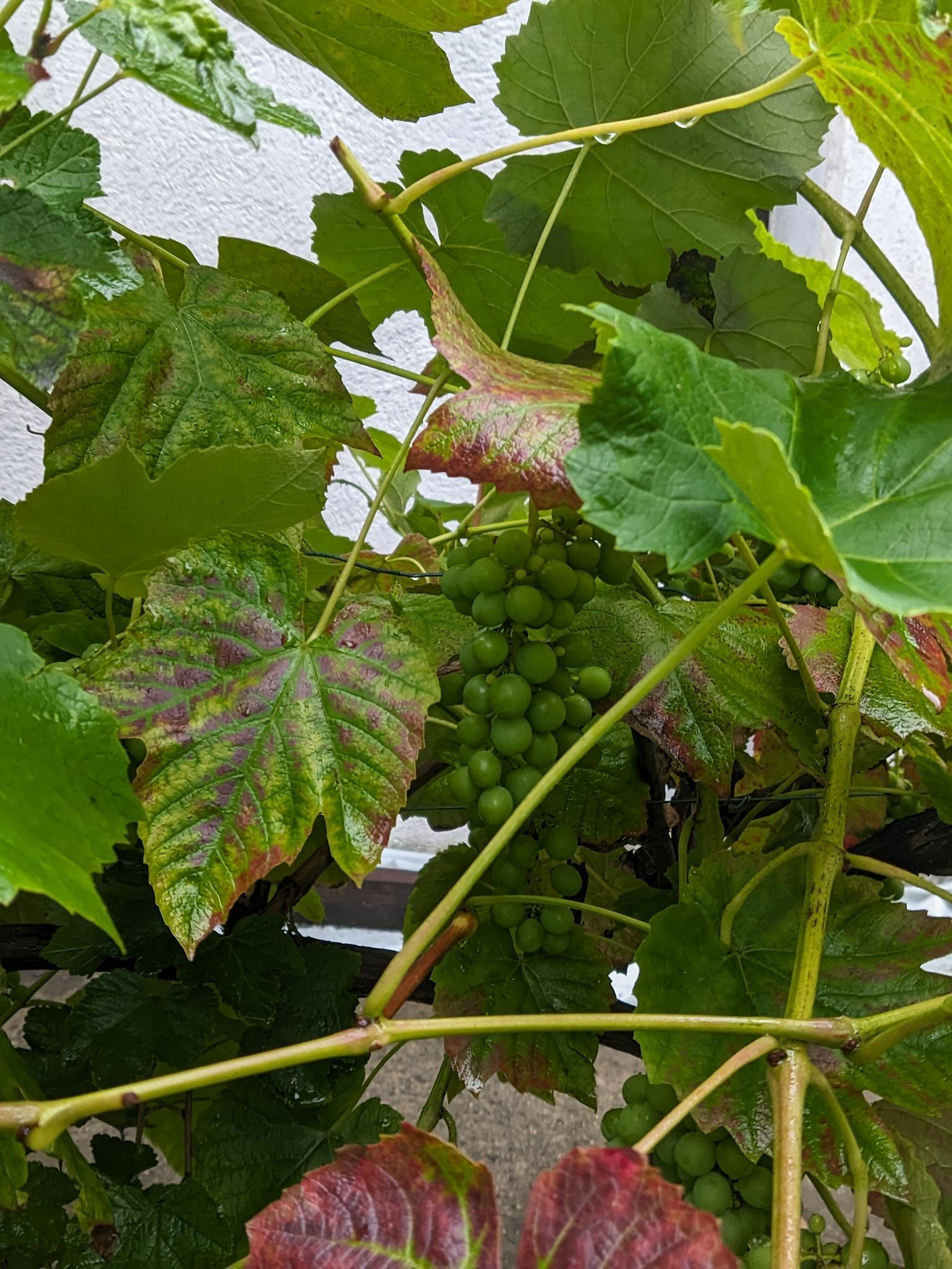Grape Unripe: (436, 503, 638, 956), (600, 1075, 888, 1269), (767, 553, 842, 606), (847, 355, 911, 396), (888, 772, 922, 820), (0, 971, 29, 1014)
